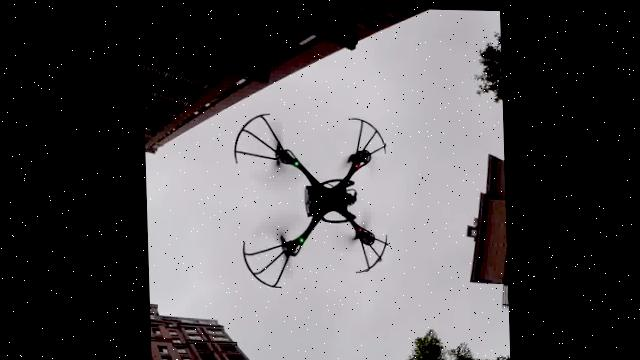drone: (225, 106, 404, 294)
